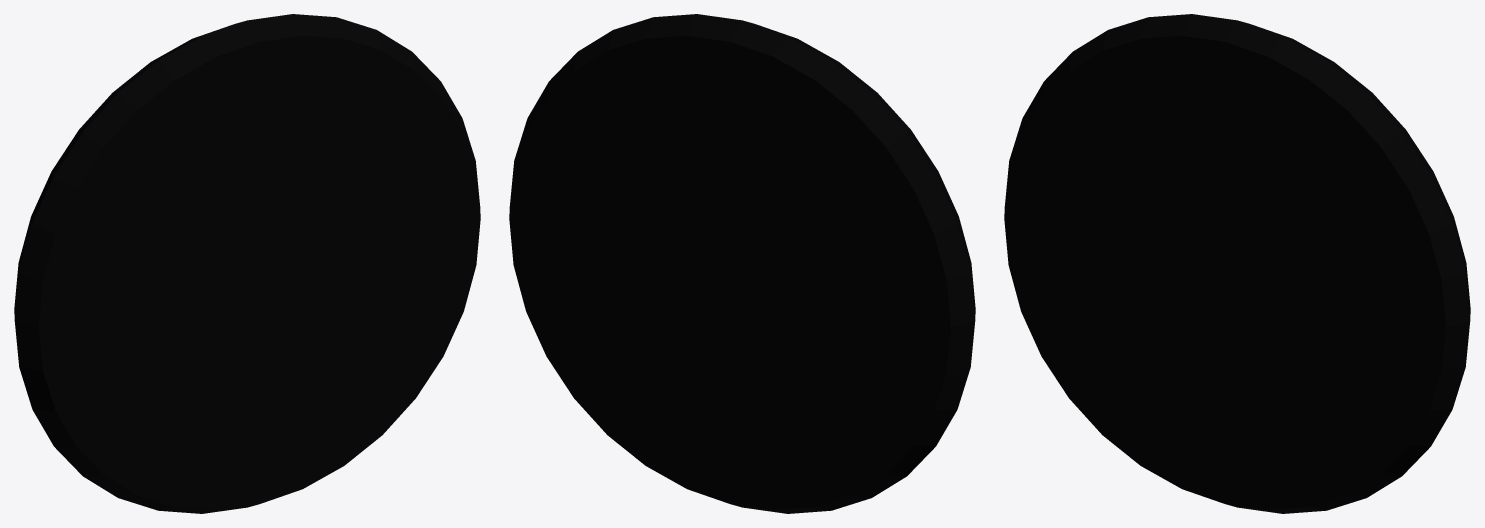
File: DualShot.fbx
3 views of the same model, side by side, from view 1: azimuth 30°, elevation 25°; view 2: azimuth 150°, elevation 25°; view 3: azimuth 330°, elevation 25° (orthographic).
Visible parts, largest first — view 1: DualShot; view 2: DualShot; view 3: DualShot.
Boxes of the visible parts, x1=… form: DualShot: x1=14, y1=14, x2=480, y2=513; DualShot: x1=509, y1=14, x2=975, y2=513; DualShot: x1=1004, y1=14, x2=1470, y2=513.
Bounding box in the file's own units: 211 × 211 × 19.3.
1 material, 1 textured.
